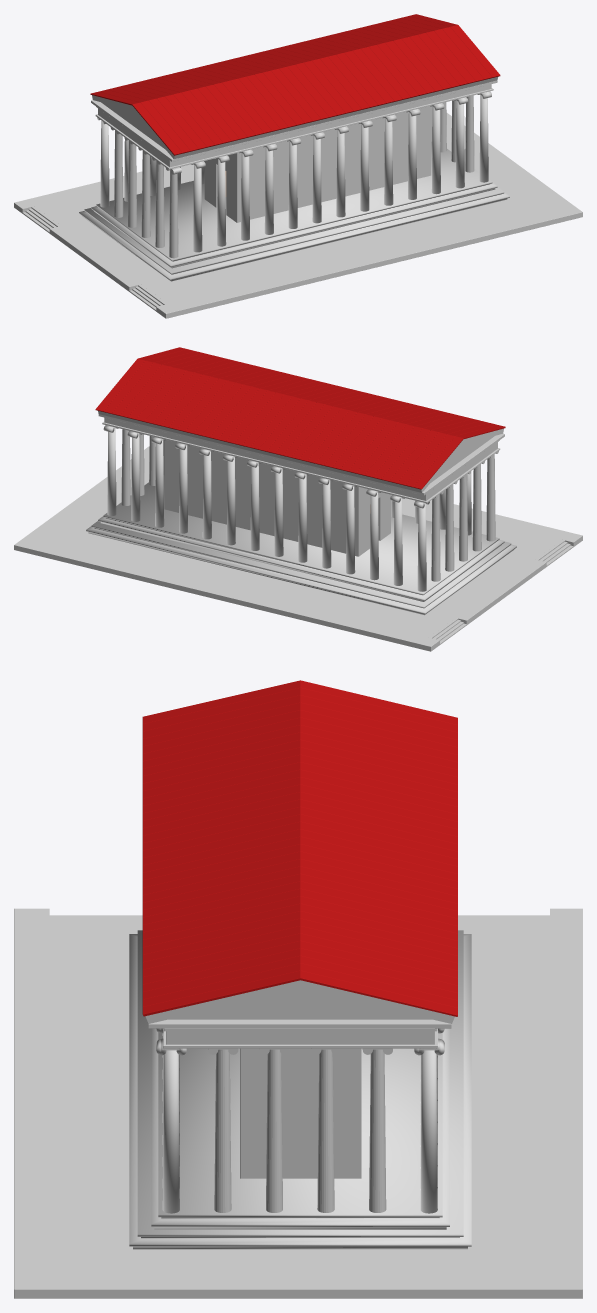
3 renders of one model, top to bottom at view 1: azimuth 30°, elevation 25°; view 2: azimuth 150°, elevation 25°; view 3: azimuth 270°, elevation 25°, orthographic. The views are drawn at different scales.
Parts seen in each view (by area): view 1: Component_1 (×27), surf_06 (×40), surf_04, surf_01 (×5), surf_03 (×2), surf_02, Component_2; view 2: Component_1 (×27), surf_06 (×40), surf_04, surf_01 (×5), surf_03 (×2), surf_02, Component_2; view 3: surf_04, surf_06 (×40), Component_1 (×14), surf_01 (×3), surf_03 (×3), surf_02.
Part boxes in pixels (box(x1,y1,x2,y2)): Component_1 (×27): box(79, 94, 509, 281); surf_06 (×40): box(90, 14, 500, 155); surf_04: box(14, 113, 582, 318); surf_01 (×5): box(22, 77, 497, 311); surf_03 (×2): box(95, 84, 493, 169); surf_02: box(91, 80, 497, 161); Component_2: box(155, 160, 164, 247); Component_1 (×27): box(86, 428, 516, 615); surf_06 (×40): box(95, 347, 505, 489); surf_04: box(14, 446, 582, 651); surf_01 (×5): box(98, 411, 573, 644); surf_03 (×2): box(102, 417, 500, 503); surf_02: box(98, 414, 504, 495); Component_2: box(472, 464, 481, 551); surf_04: box(14, 908, 582, 1298); surf_06 (×40): box(142, 680, 457, 1016); Component_1 (×14): box(129, 930, 471, 1249); surf_01 (×3): box(145, 980, 454, 1178); surf_03 (×3): box(163, 1028, 437, 1048); surf_02: box(148, 1019, 451, 1028).
Size of the model in its own units: 1248 by 788 by 423.
